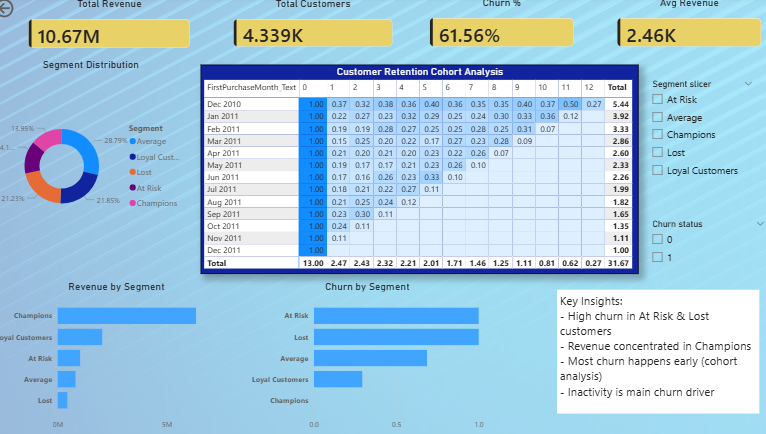

The page's visual inventory and layout, read from the dashboard file:
{"tool":"powerbi","page":{"name":"Page 1","canvas":[1280,720],"ordinal":0},"visuals":[{"type":"cardVisual","title":"Total Revenue","fields":{"Data":["Sum(rfm_final.Monetary)"]},"box":[43.1,2.1,299.5,100.5],"z":0},{"type":"cardVisual","title":"Total Customers","fields":{"Data":["Count(rfm_final.CustomerID)"]},"box":[379.5,2.1,295.4,98.5],"z":1000},{"type":"cardVisual","title":"Churn %","fields":{"Data":["rfm_final.Churn %"]},"box":[701.5,0,270.8,100.5],"z":2000},{"type":"actionButton","box":[0,0,100,40],"z":3000},{"type":"cardVisual","title":"Avg Revenue","fields":{"Data":["rfm_final.Avg Revenue"]},"box":[1009.2,0,270.8,100.5],"z":4000},{"type":"donutChart","title":"Segment Distribution","fields":{"Category":["rfm_final.Segment"],"Y":["CountNonNull(rfm_final.CustomerID)"]},"box":[0,102,324.5,334.7],"z":5000},{"type":"clusteredBarChart","title":"Revenue by Segment","fields":{"Category":["rfm_final.Segment"],"Y":["Sum(rfm_final.Monetary)"]},"box":[0,465.5,408.6,255.2],"z":6000},{"type":"clusteredBarChart","title":"Churn by Segment","fields":{"Category":["rfm_final.Segment"],"Y":["Avg(rfm_final.Churn)"]},"box":[420.7,465.5,391.4,255.2],"z":7000},{"type":"pivotTable","title":"Customer Retention Cohort Analysis","fields":{"Columns":["retention.CohortIndex"],"Values":["Sum(retention.Retention)"],"Rows":["retention.FirstPurchaseMonth_Text"]},"box":[342.9,112.2,718.4,342.9],"z":8000},{"type":"slicer","fields":{"Values":["rfm_final.Segment"]},"box":[1070,132.1,189.5,228.7],"z":9000},{"type":"textbox","box":[927.2,482.1,332.3,203.1],"z":10000},{"type":"slicer","fields":{"Values":["rfm_final.Churn"]},"box":[1070.8,361,209.2,94.4],"z":11000}]}

Visuals, with their boxes in screenshot pixels (x1, y1, x2, y2), scaled from the page's 1280x720 canvas onto the 766x434 screenshot:
"Total Revenue" cardVisual: l=26, t=1, r=205, b=62
"Total Customers" cardVisual: l=227, t=1, r=404, b=61
"Churn %" cardVisual: l=420, t=0, r=582, b=61
actionButton: l=0, t=0, r=60, b=24
"Avg Revenue" cardVisual: l=604, t=0, r=765, b=61
"Segment Distribution" donutChart: l=0, t=61, r=194, b=263
"Revenue by Segment" clusteredBarChart: l=0, t=281, r=245, b=433
"Churn by Segment" clusteredBarChart: l=252, t=281, r=486, b=433
"Customer Retention Cohort Analysis" pivotTable: l=205, t=68, r=635, b=274
slicer - rfm_final.Segment: l=640, t=80, r=754, b=217
textbox: l=555, t=291, r=754, b=413
slicer - rfm_final.Churn: l=641, t=218, r=765, b=275
